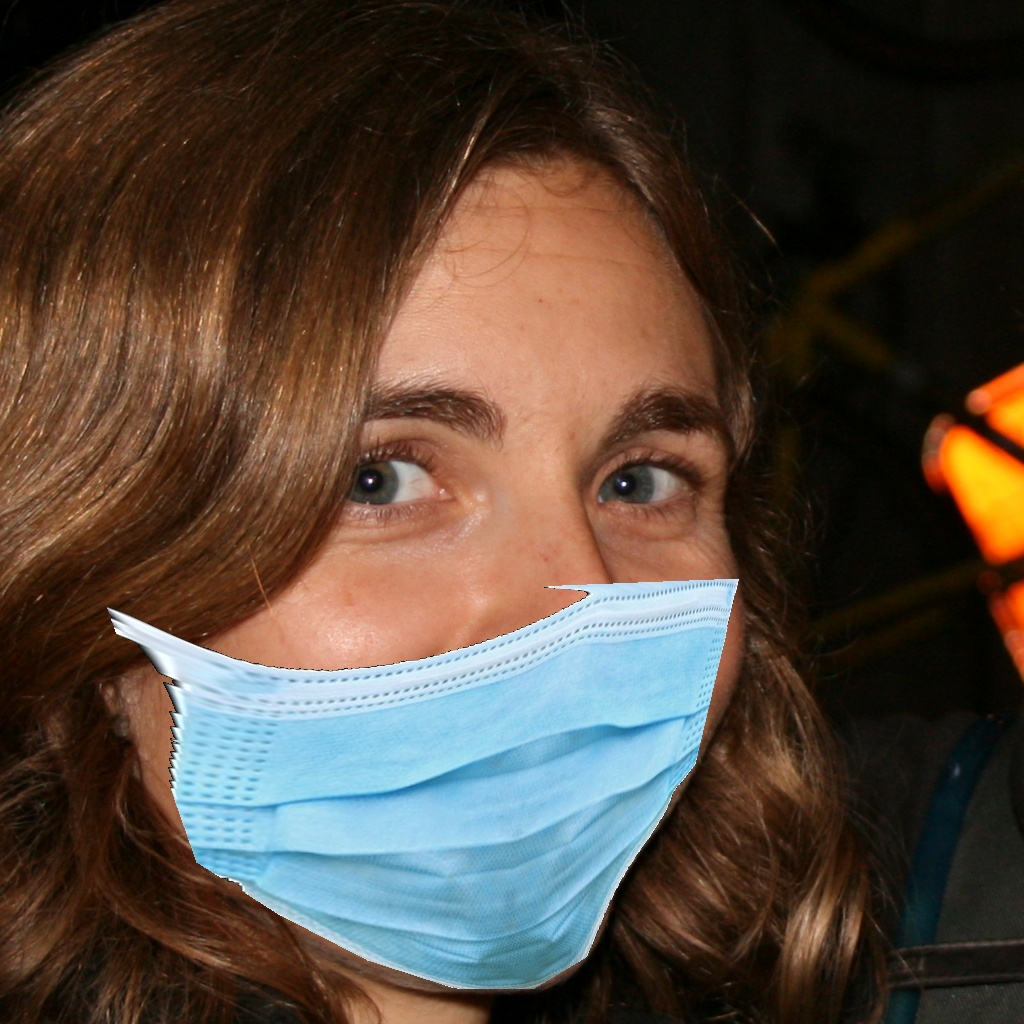Mask: (101, 382, 754, 992)
